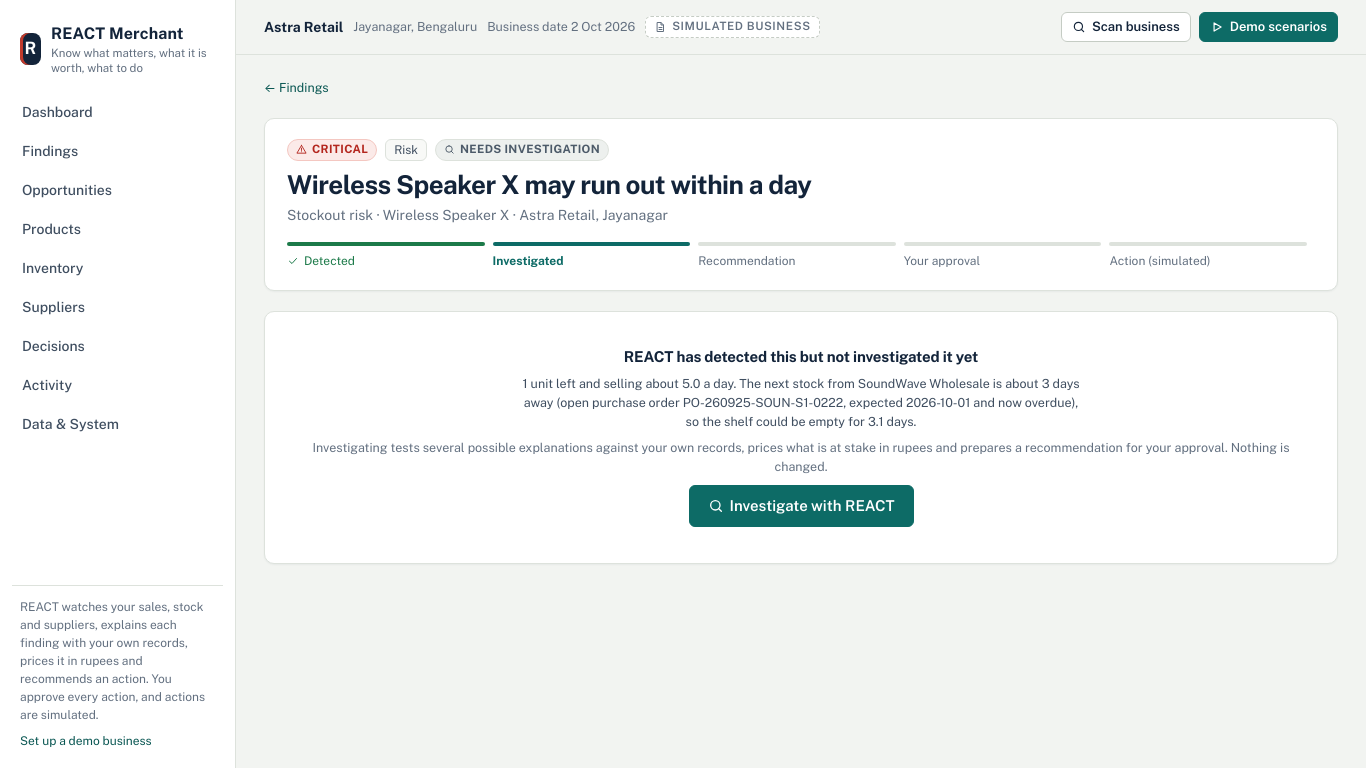
Test: AI failure handling › shows 'AI investigation temporarily unavailable' on a 503 and never shows a conclusion
Click the button "Investigate with REACT". click: (801, 506)
box: [688, 485, 914, 527]
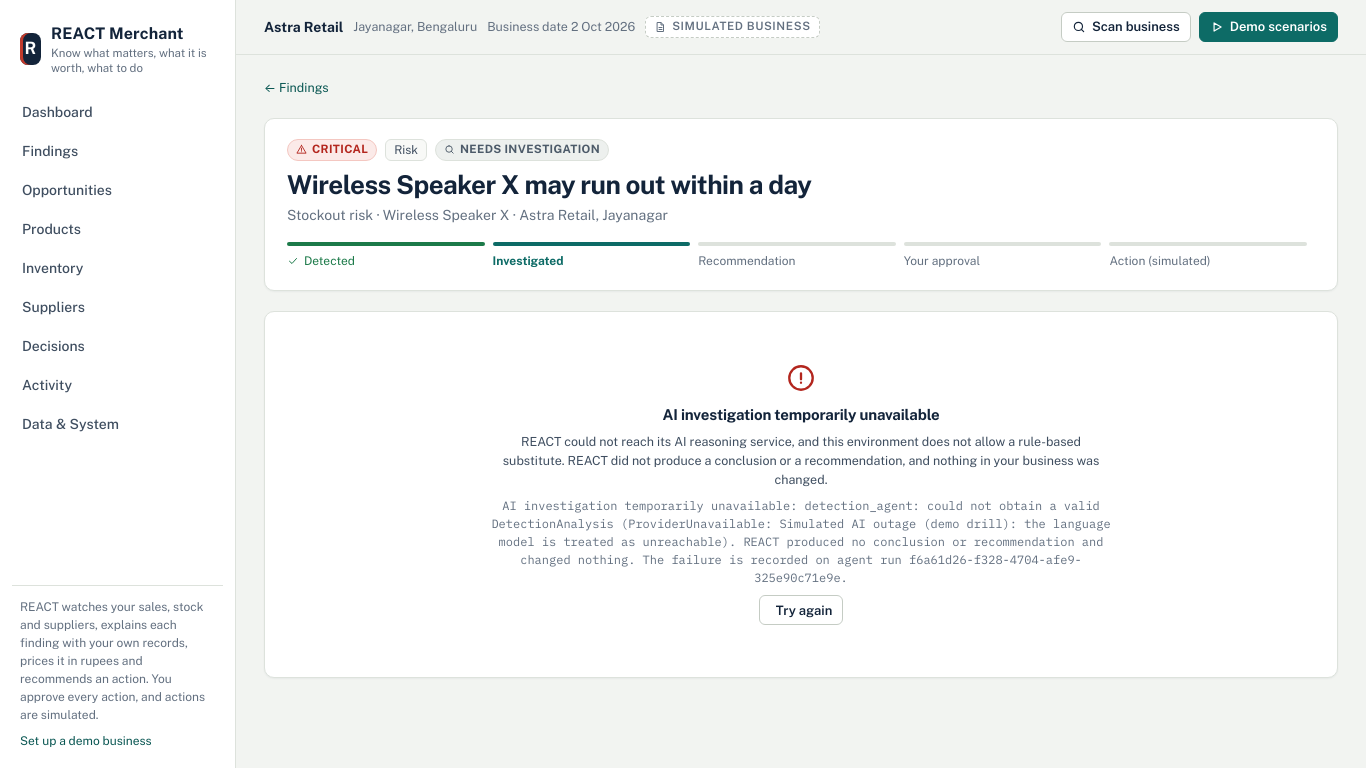
Check: the heading "AI investigation temporarily unavailable" is shown, box [662, 406, 940, 425]
Check: the text "did not produce a conclusion or a recommendation, and nothing in your business was changed" is shown, box [503, 434, 1099, 486]
Check: the text "AI investigation temporarily unavailable: detection_agent: could not obtain a valid DetectionAnalysis (ProviderUnavailab" is shown, box [491, 498, 1111, 585]
